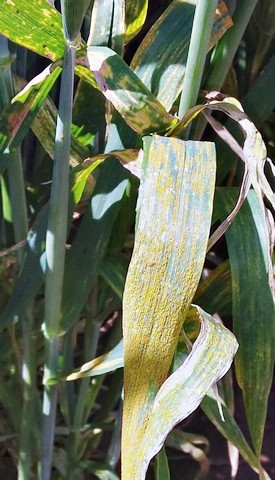Leaf Rust: (124, 144, 223, 383)
